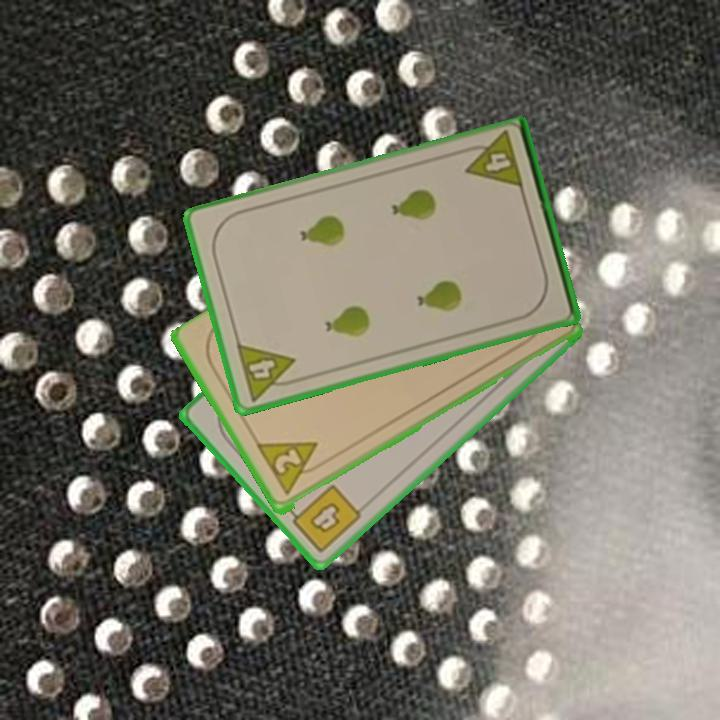2p: (253, 438, 329, 499)
4b: (283, 481, 365, 556)
4p: (233, 340, 303, 404), (458, 129, 526, 193)
